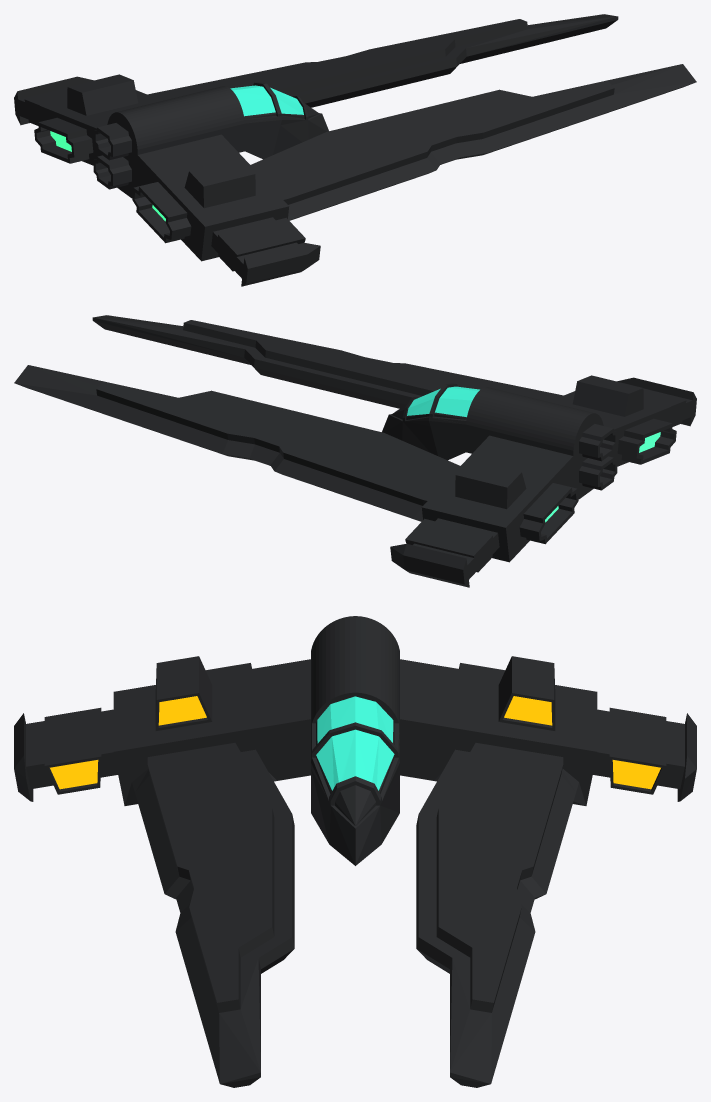
File: aegir.fbx
The picture shows the model from 3 angles, top to bottom: view 1: azimuth 30°, elevation 25°; view 2: azimuth 150°, elevation 25°; view 3: azimuth 270°, elevation 25°; orthographic projection. The views are drawn at different scales.
Parts seen in each view (by area): view 1: AegirBuild; view 2: AegirBuild; view 3: AegirBuild.
Boxes of the visible parts, <box> form: AegirBuild: <box>14,14,696,286</box>; AegirBuild: <box>14,315,696,587</box>; AegirBuild: <box>14,616,696,1087</box>.
Bounding box in the file's own units: 595 × 97.54 × 440.
